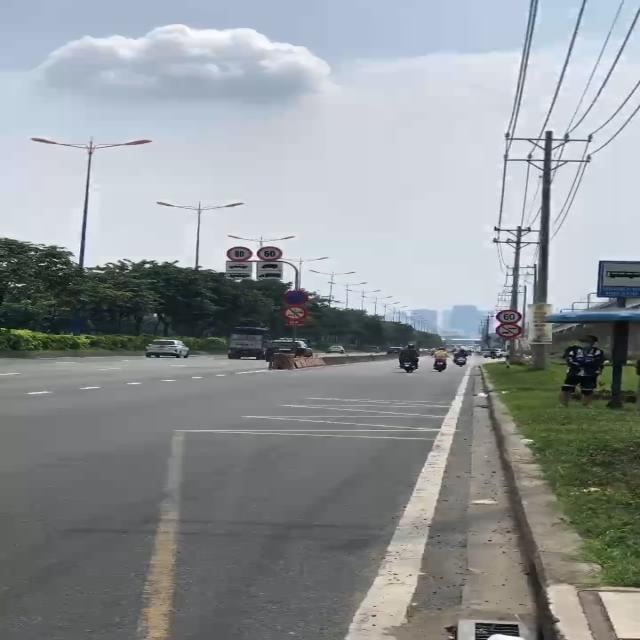Bien bao toc do toi da cho phep: (254, 244, 287, 264), (495, 306, 527, 325), (222, 243, 253, 261)
